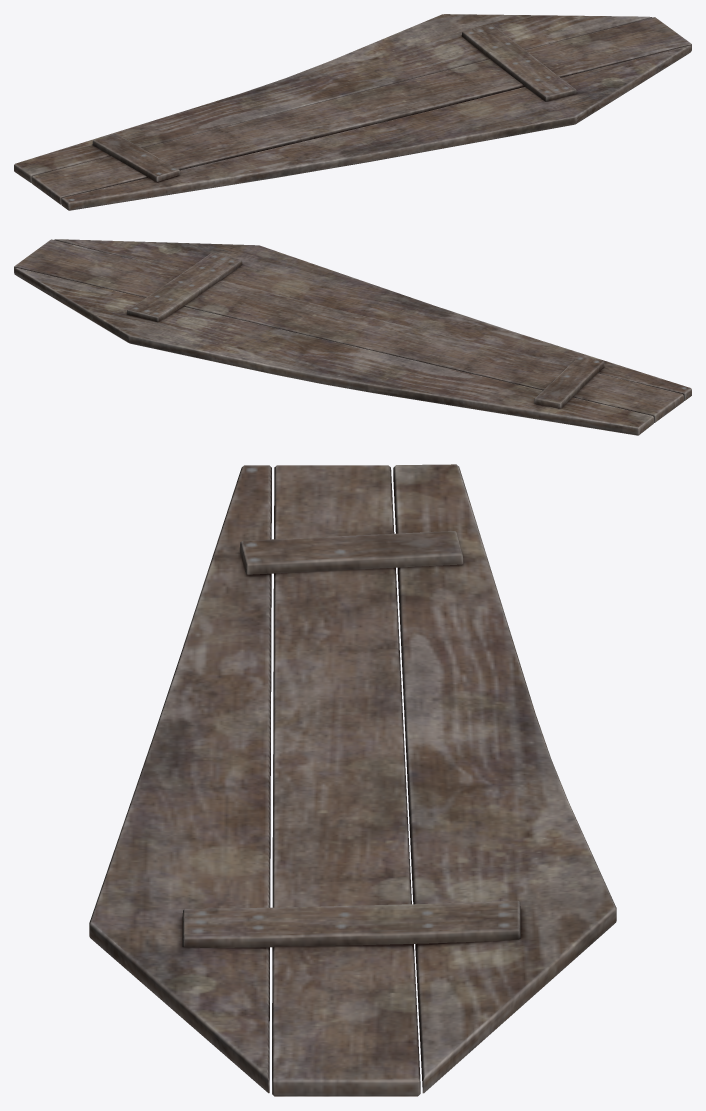
The model's file is SM_CoffinsA_003.fbx.
3 renders of one model, top to bottom at view 1: azimuth 30°, elevation 25°; view 2: azimuth 150°, elevation 25°; view 3: azimuth 270°, elevation 25°, orthographic. The views are drawn at different scales.
Parts seen in each view (by area): view 1: SM_CoffinsA_003_LOD0; view 2: SM_CoffinsA_003_LOD0; view 3: SM_CoffinsA_003_LOD0.
Part boxes in pixels (box(x1,y1,x2,y2)): SM_CoffinsA_003_LOD0: box(14, 14, 691, 210); SM_CoffinsA_003_LOD0: box(14, 239, 691, 435); SM_CoffinsA_003_LOD0: box(89, 464, 616, 1096).
Bounding box in the file's own units: 192 × 69.45 × 5.8.
Materials: 1 (1 with a texture image).
